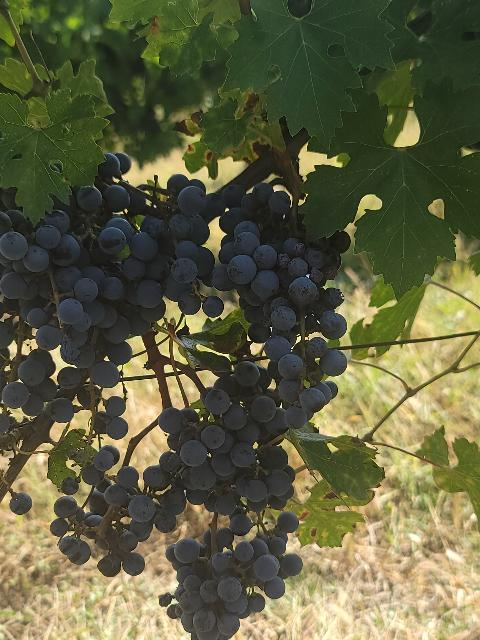grapes: (0, 179, 215, 409), (144, 374, 302, 640), (211, 182, 350, 415), (50, 446, 186, 576), (110, 420, 116, 429)
